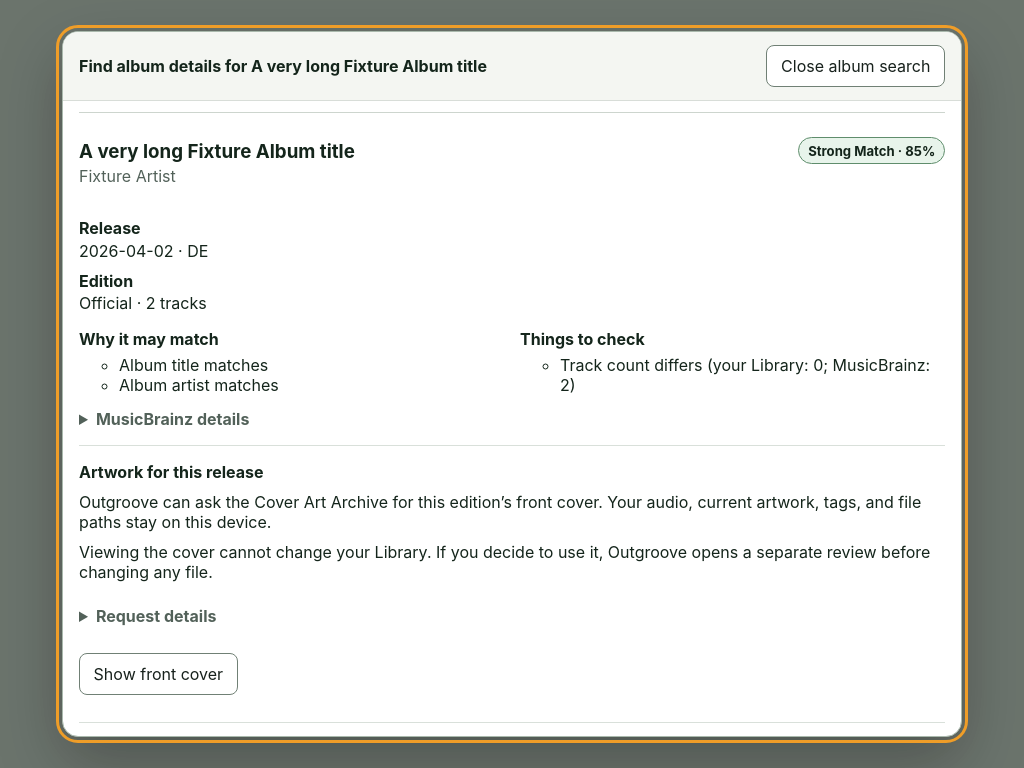
AlbumIdentification › shows plain-language confidence and progressively discloses provider IDs
(page scrolled)
Check: the element that starts with "A very long Fixture Album title" shows "Album title matches", box [119,355,268,375]
Check: the element that starts with "A very long Fixture Album title" shows "Track count differs (your Library: 0; MusicBrainz: 2)", box [560,355,930,395]
Click the heading "MusicBrainz details" at (173, 418), box [96,408,249,428]
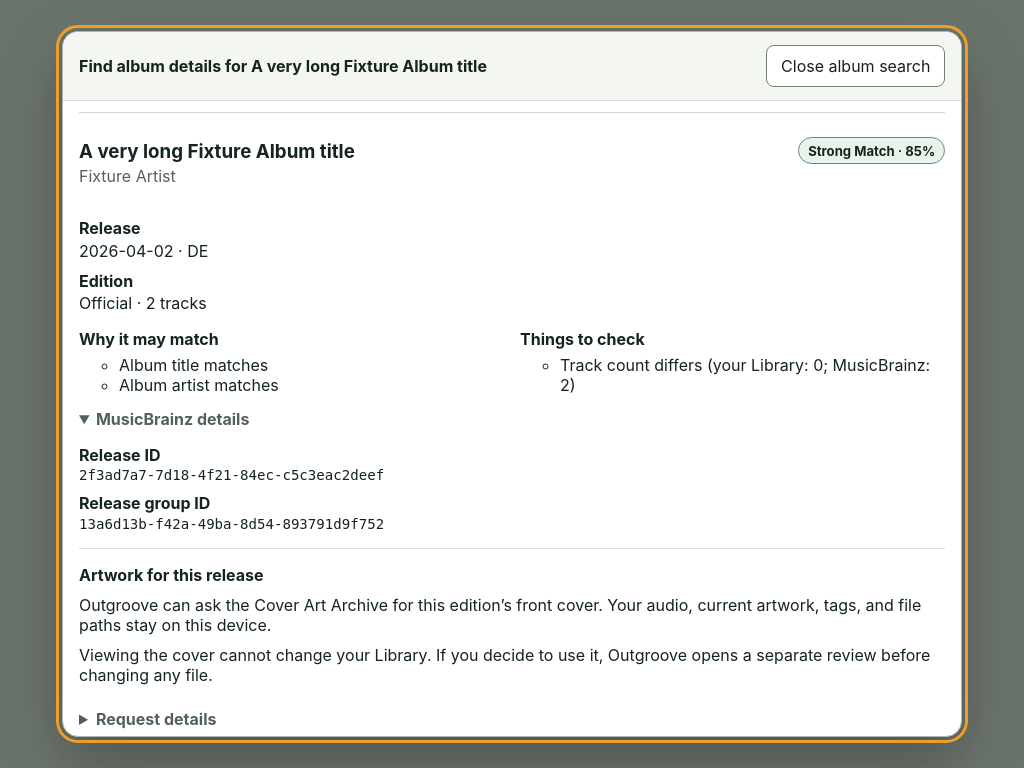
Check: the text "2f3ad7a7-7d18-4f21-84ec-c5c3eac2deef" is shown, box [79,467,384,483]
